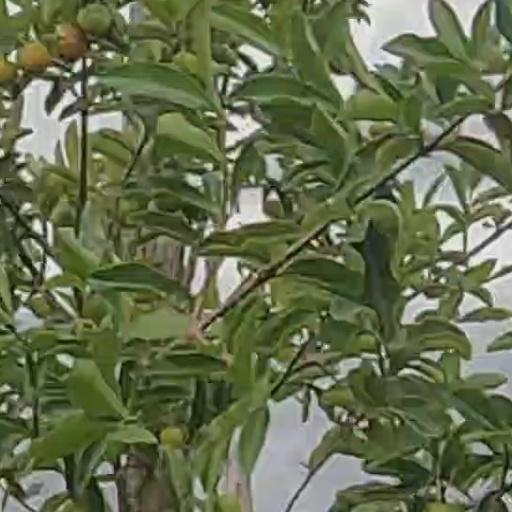acerola: (18, 43, 51, 72), (57, 25, 82, 59), (80, 7, 111, 34)
